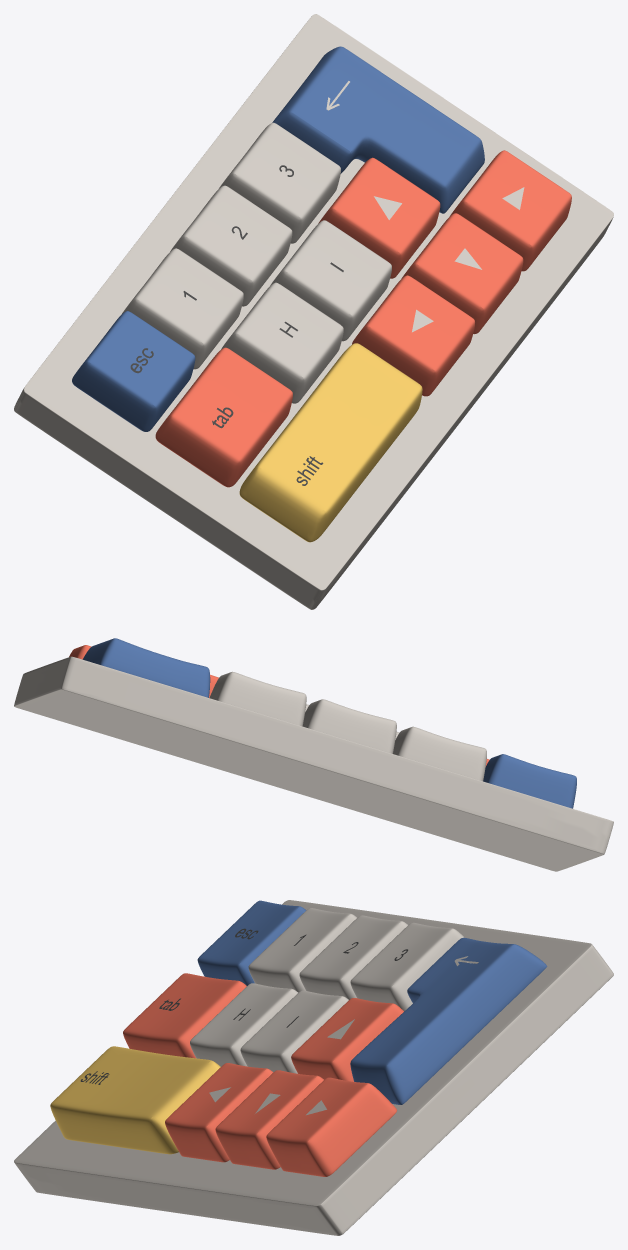
File: minikeyboard.gltf
3 renders of one model, top to bottom at view 1: azimuth 30°, elevation 25°; view 2: azimuth 150°, elevation 25°; view 3: azimuth 270°, elevation 25°, orthographic. The views are drawn at different scales.
Parts seen in each view (by area): view 1: GeometryNode_5, GeometryNode_269, GeometryNode_22, GeometryNode_207, GeometryNode_224; view 2: GeometryNode_5, GeometryNode_22, GeometryNode_207; view 3: GeometryNode_5, GeometryNode_269, GeometryNode_22, GeometryNode_207, GeometryNode_224.
Boxes of the visible parts, x1,y1,x2,y2 form: GeometryNode_5: [14, 14, 613, 609]; GeometryNode_269: [155, 150, 571, 487]; GeometryNode_22: [122, 122, 391, 403]; GeometryNode_207: [72, 46, 484, 431]; GeometryNode_224: [239, 343, 422, 542]; GeometryNode_5: [14, 656, 613, 871]; GeometryNode_22: [209, 671, 486, 781]; GeometryNode_207: [82, 638, 576, 808]; GeometryNode_5: [14, 900, 613, 1235]; GeometryNode_269: [123, 973, 403, 1176]; GeometryNode_22: [190, 908, 464, 1073]; GeometryNode_207: [197, 900, 547, 1104]; GeometryNode_224: [50, 1046, 220, 1154].
Size of the model in its own units: 3.47 by 1.91 by 2.71.
